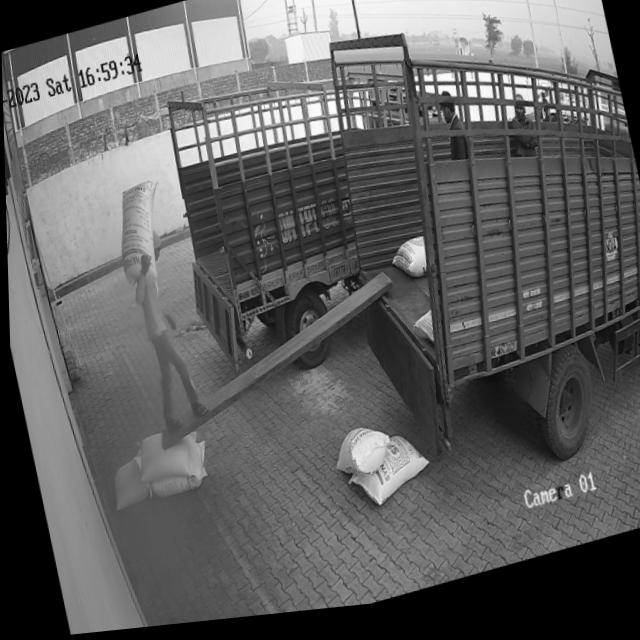sack: (339, 434, 432, 520), (106, 180, 172, 291), (129, 425, 200, 491), (139, 442, 210, 504), (326, 426, 390, 489), (103, 455, 150, 514)
